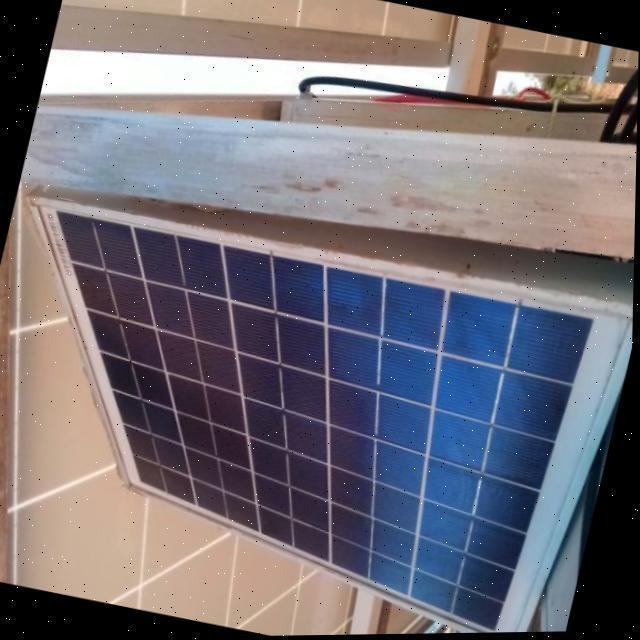Normal Solar Panel: (0, 188, 637, 640)
